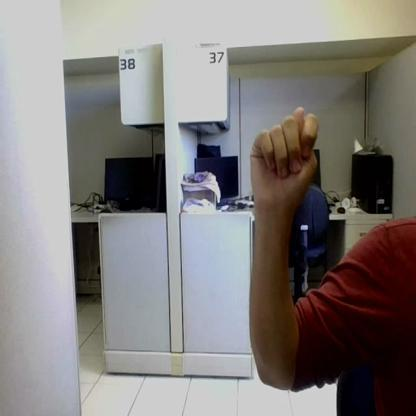T: (252, 108, 318, 199)
